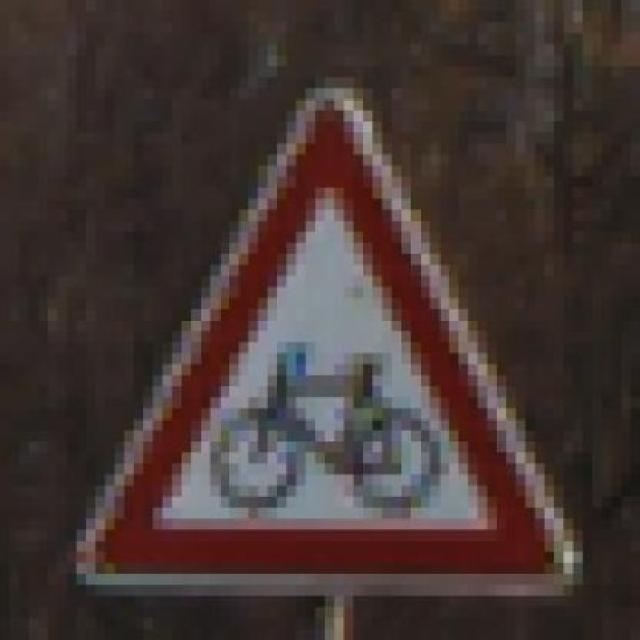CYCLE ROUTE AHEAD WARNING: (76, 88, 582, 607)
